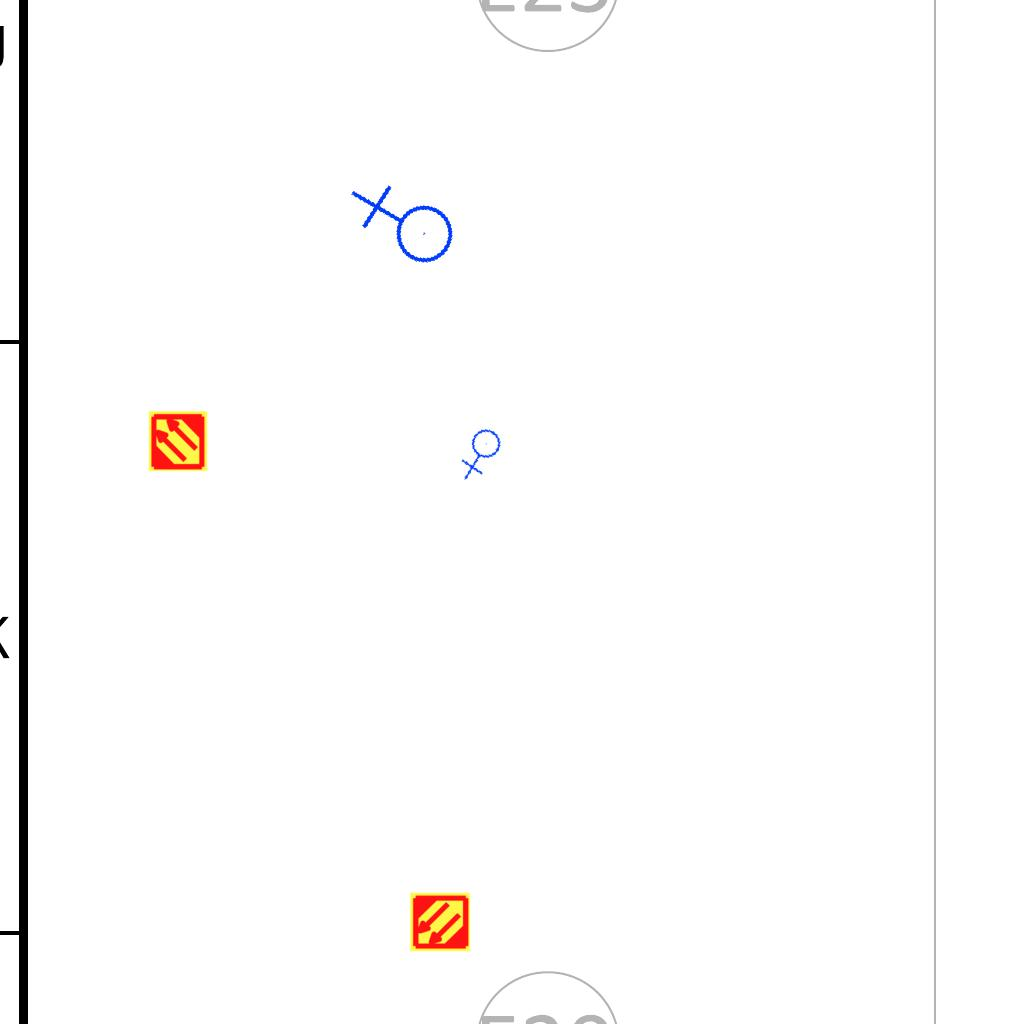ASR_Ansaugrauchmelder: (147, 410, 209, 472), (409, 891, 471, 953)
Elektroanschluss_allgemein_230V_Geraeteanschlussdose_230V: (345, 166, 464, 288), (452, 424, 513, 483)
